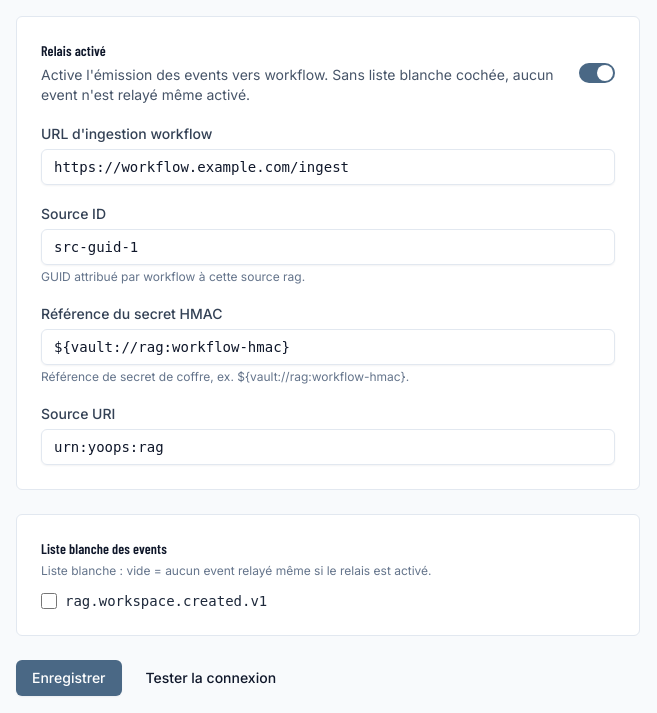
Test: EventsProducerPage › affiche le résultat du test de connexion
(page scrolled)
Click the button "Tester la connexion". click: {"x": 211, "y": 678}
box: [130, 660, 292, 696]
(page scrolled)
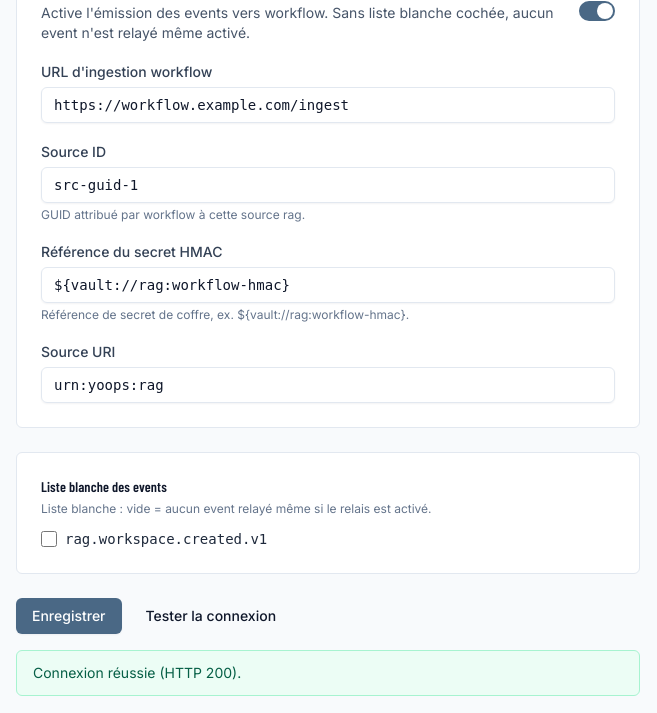
Expected: the text "Connexion réussie (HTTP 200)." is shown, [16, 650, 640, 696]
